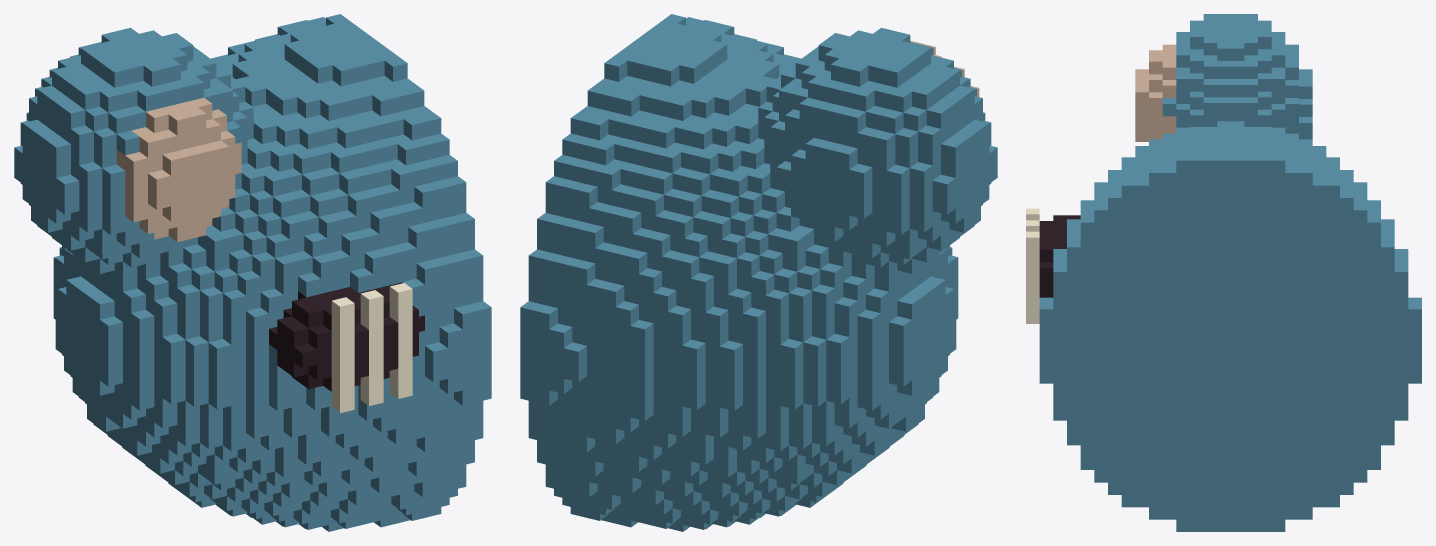
The model's file is StitchHeadRight.gltf.
3 renders of one model, left to right at view 1: azimuth 30°, elevation 25°; view 2: azimuth 150°, elevation 25°; view 3: azimuth 270°, elevation 25°, orthographic. The views are drawn at different scales.
Size of the model in its own units: 0.92 by 1.32 by 1.16.
